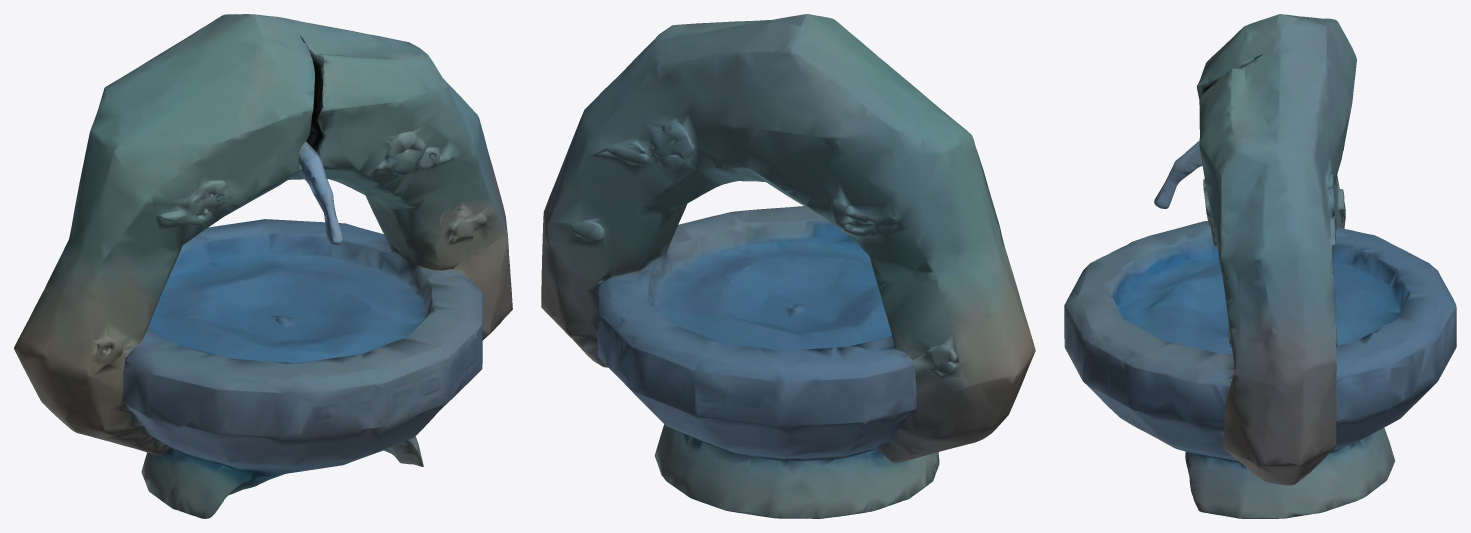
File: water_nourish_t3.glb
3 views of the same model, side by side, from view 1: azimuth 30°, elevation 25°; view 2: azimuth 150°, elevation 25°; view 3: azimuth 270°, elevation 25° (orthographic). The views are drawn at different scales.
Visible parts, largest first — view 1: tripo_node_4842a0c7-1c7d-4072-af29-f78ffde92bdf; view 2: tripo_node_4842a0c7-1c7d-4072-af29-f78ffde92bdf; view 3: tripo_node_4842a0c7-1c7d-4072-af29-f78ffde92bdf.
Part boxes in pixels (left/top/right/bottom): tripo_node_4842a0c7-1c7d-4072-af29-f78ffde92bdf: left=14, top=14, right=512, bottom=518; tripo_node_4842a0c7-1c7d-4072-af29-f78ffde92bdf: left=541, top=14, right=1035, bottom=518; tripo_node_4842a0c7-1c7d-4072-af29-f78ffde92bdf: left=1064, top=14, right=1456, bottom=518.
Size of the model in its own units: 0.9995 by 0.9102 by 0.7386.
1 material, 1 textured.
